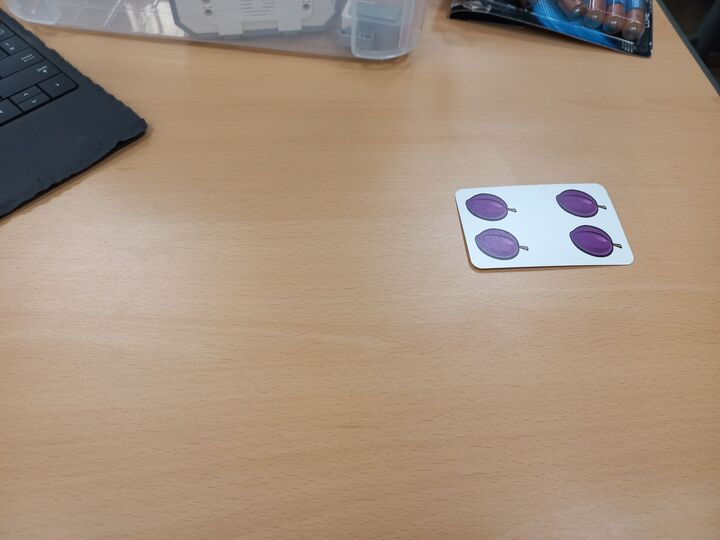plum4: (456, 183, 635, 272)
